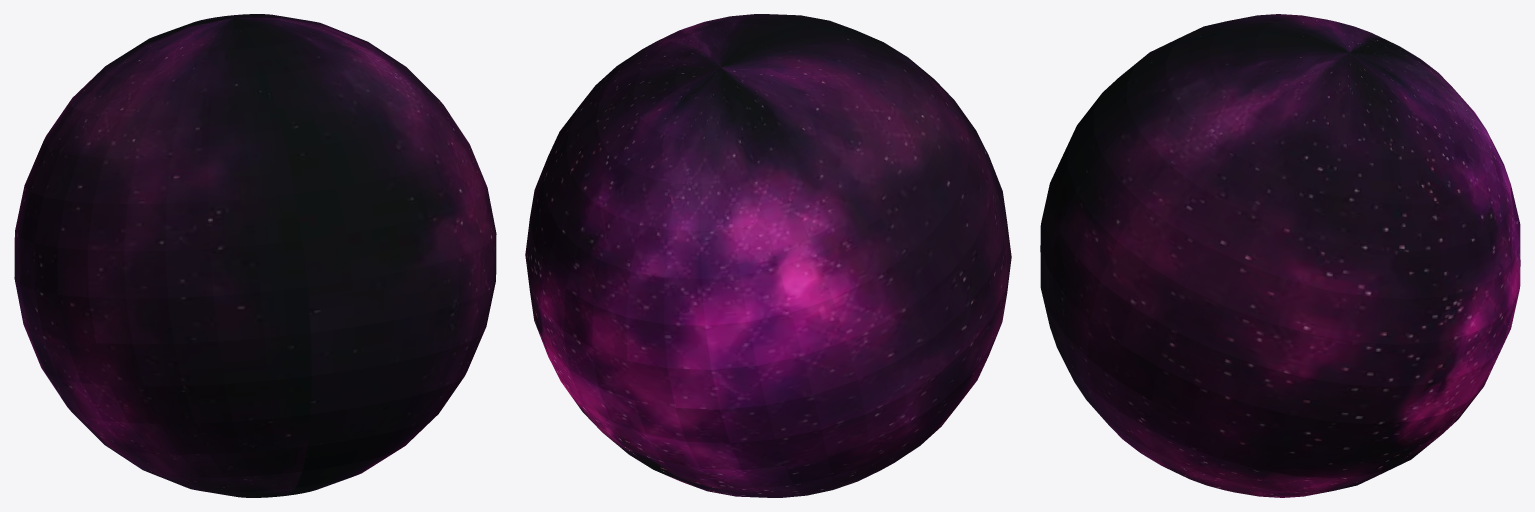
File: smoke_detectors_free_low_poly.glb
The picture shows the model from 3 angles, left to right: view 1: azimuth 30°, elevation 25°; view 2: azimuth 150°, elevation 25°; view 3: azimuth 270°, elevation 25°; orthographic projection.
Parts seen in each view (by area): view 1: Sphere_2; view 2: Sphere_2; view 3: Sphere_2.
Part boxes in pixels (bbox=[...]): Sphere_2: bbox=[14, 14, 496, 497]; Sphere_2: bbox=[525, 14, 1011, 497]; Sphere_2: bbox=[1040, 14, 1520, 497].
Bounding box in the file's own units: 17503 × 17515 × 17458.
Materials: 2 (2 with a texture image).
